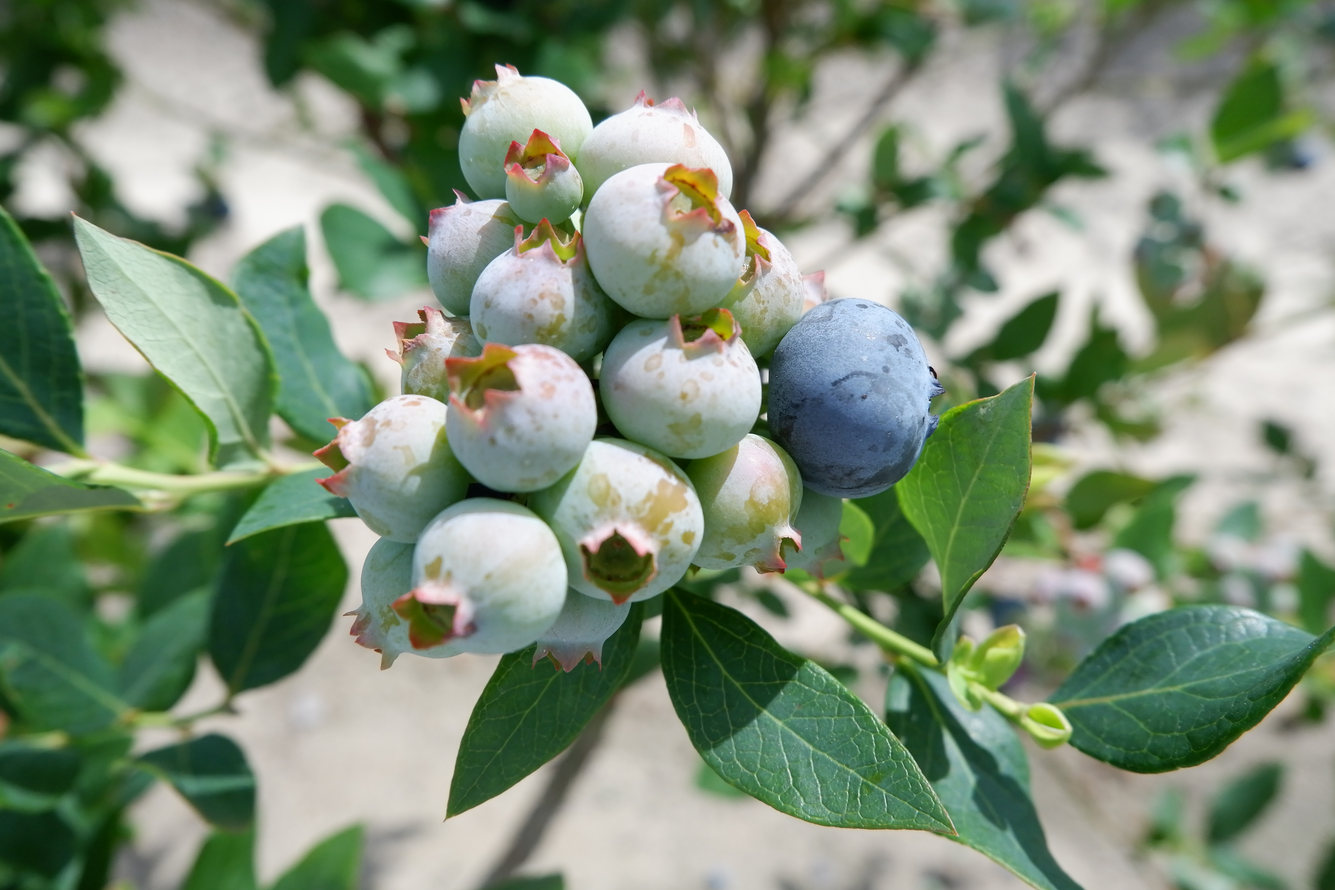Immature: (536, 440, 703, 599), (399, 505, 565, 651), (584, 166, 744, 315), (603, 313, 759, 457), (317, 397, 465, 541), (447, 347, 592, 492), (472, 226, 608, 357), (460, 67, 587, 194), (685, 437, 800, 571), (580, 96, 730, 192), (352, 543, 461, 667), (427, 194, 515, 314), (722, 222, 798, 357), (393, 308, 482, 402), (537, 588, 629, 668), (505, 133, 581, 222), (784, 484, 850, 576), (796, 271, 825, 322)
Mature: (772, 305, 937, 494)
